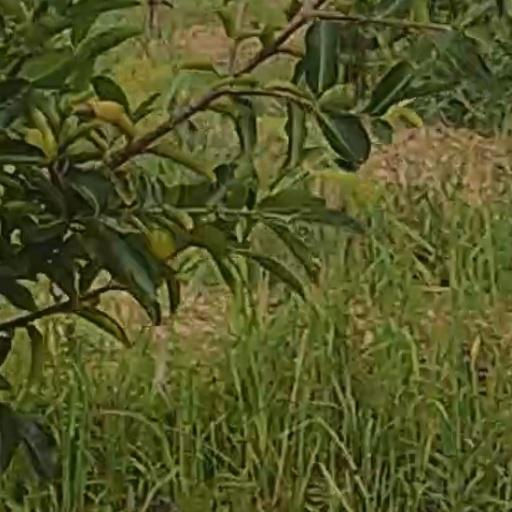acerola: (149, 227, 173, 255)
